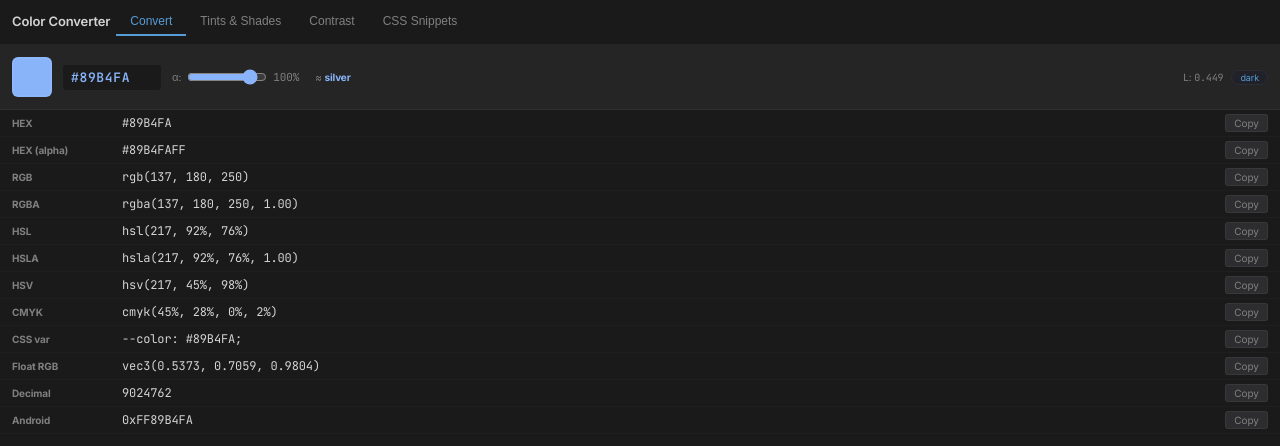
Test case: ColorConverterPanel › updates alpha-dependent formats and snippets
Set the slider named "Alpha" to "50". click: (227, 77)
box: [187, 63, 267, 91]
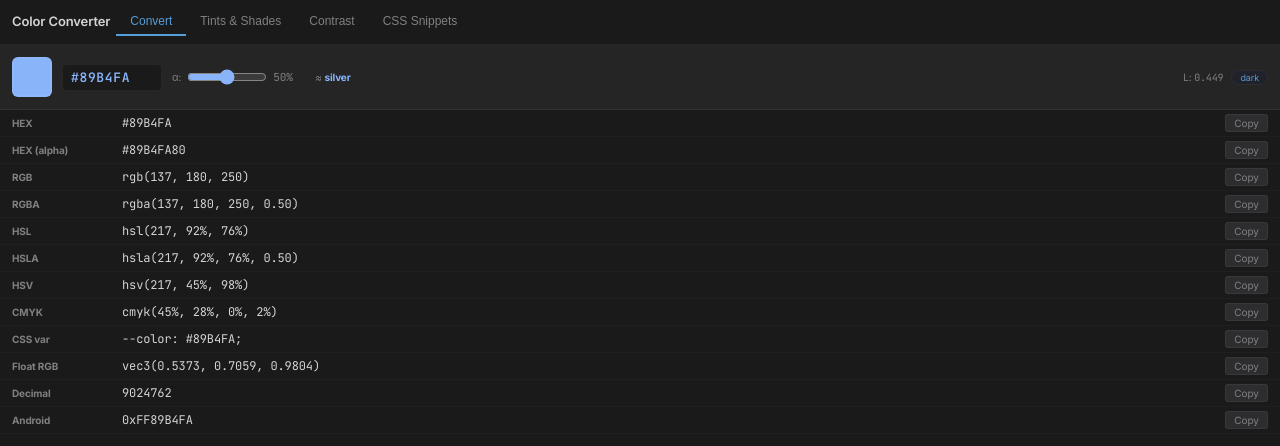
Check: the text "rgba(137, 180, 250, 0.50)" is shown, box [122, 196, 299, 212]
Click the button "CSS Snippets". click: (420, 22)
box: [369, 8, 471, 36]
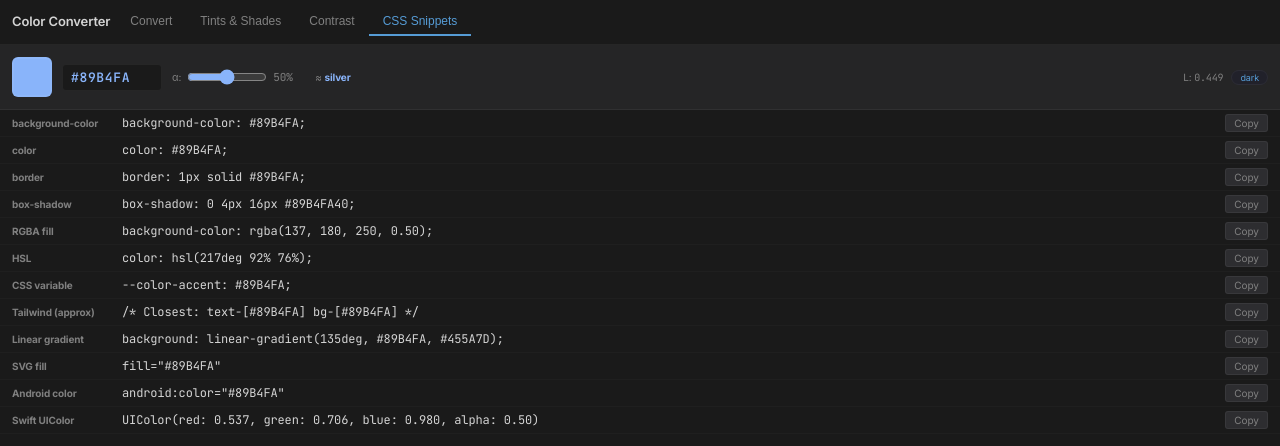
Check: the text "background-color: rgba(137, 180, 250, 0.50);" is shown, box [122, 223, 433, 239]
